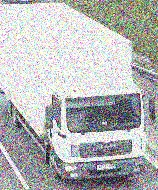truck: (0, 3, 156, 181)
